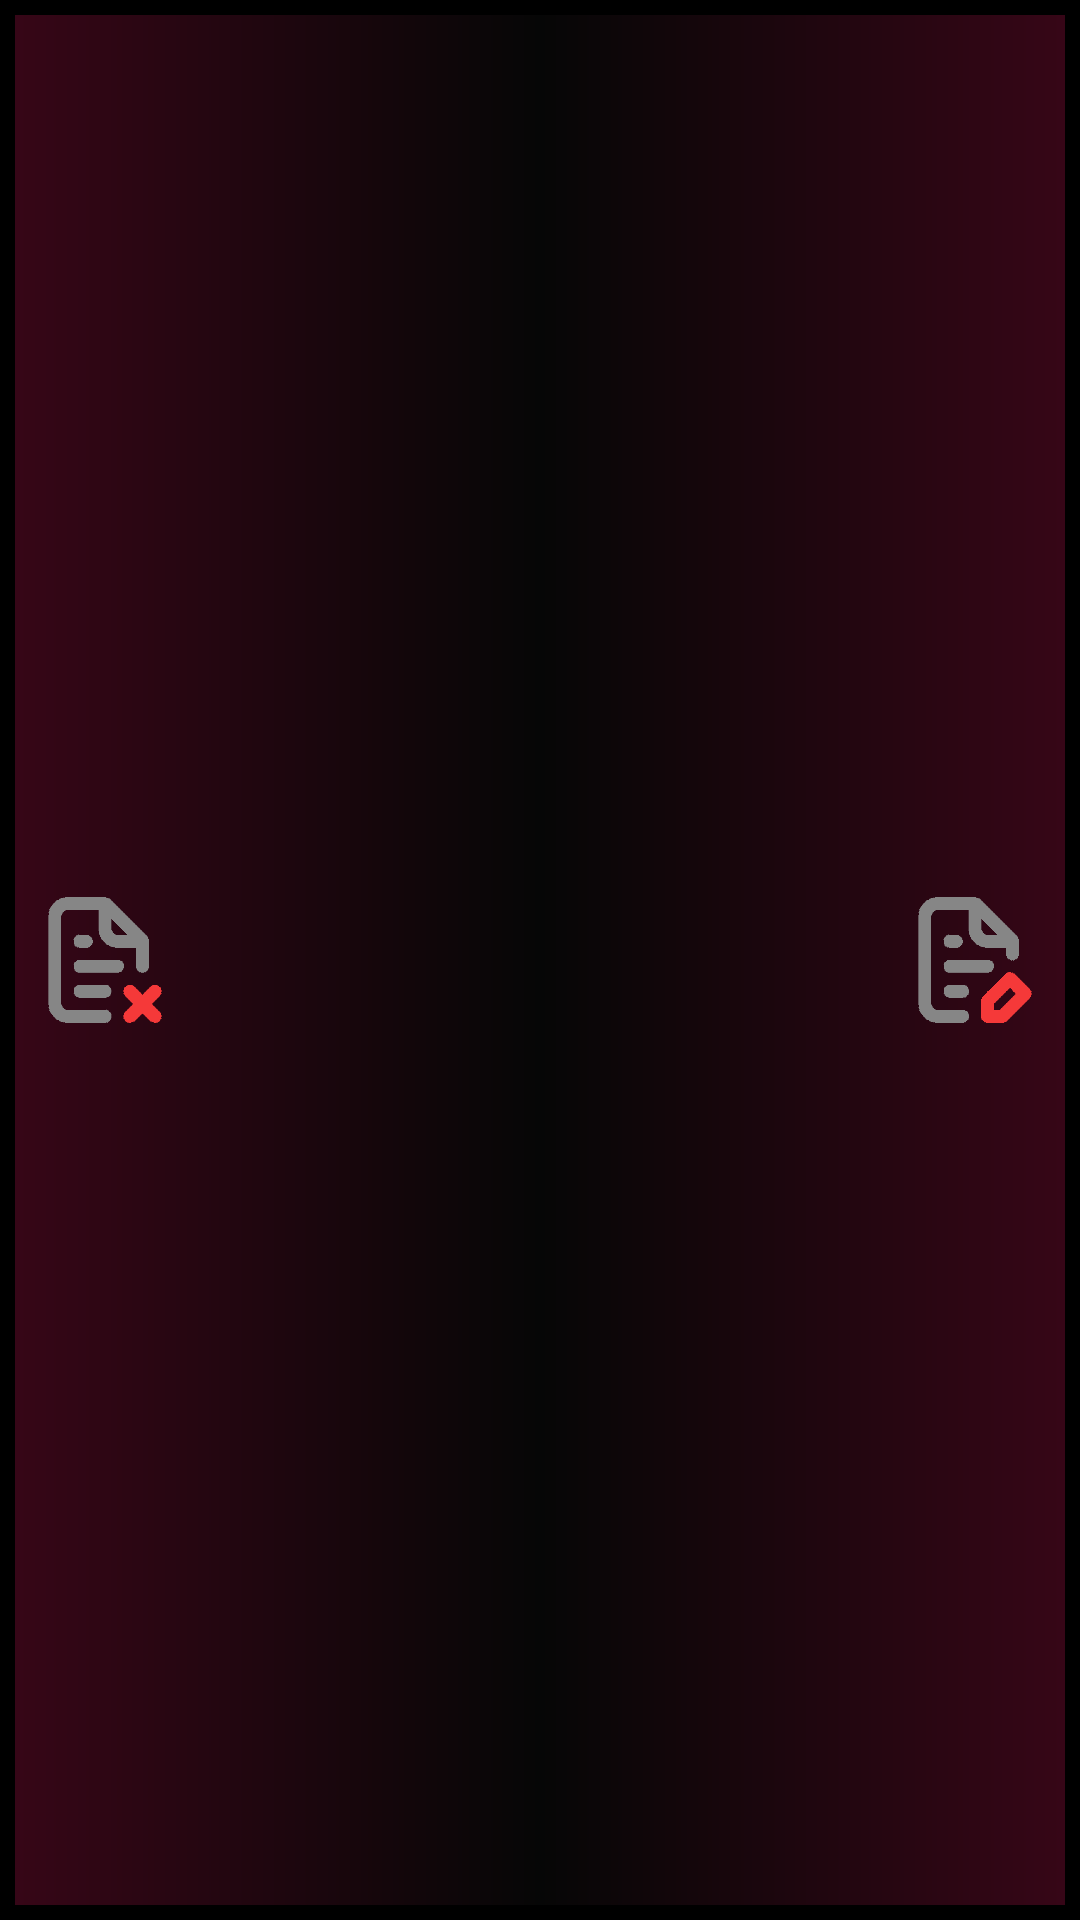

Locate icon controls on the screen. Image size 1080w x 1920h, boxes as (x1, y1, x2, y2).
delete: (48, 897, 162, 1023)
edit: (918, 897, 1032, 1023)
